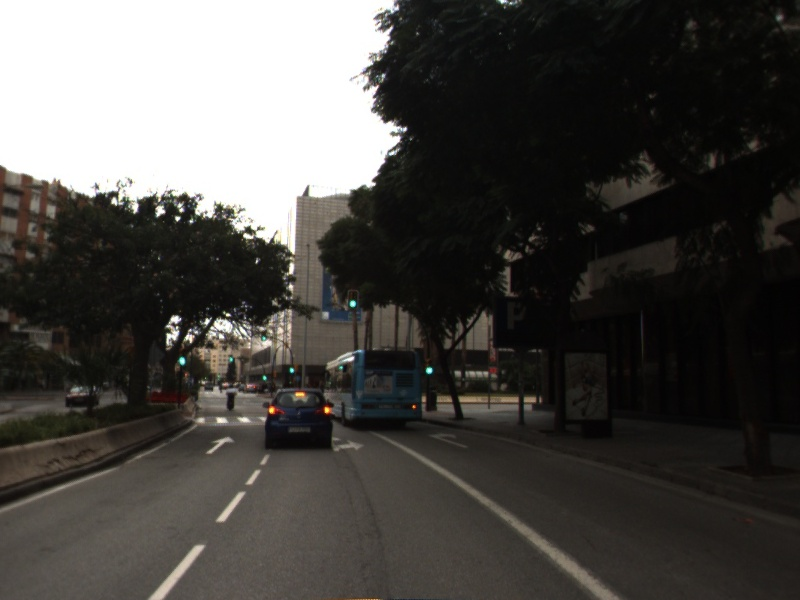RIGHT: (427, 430, 471, 450)
STRAIGHT: (203, 434, 237, 456)
STRAIGHT_RIGHT: (330, 435, 367, 454)
